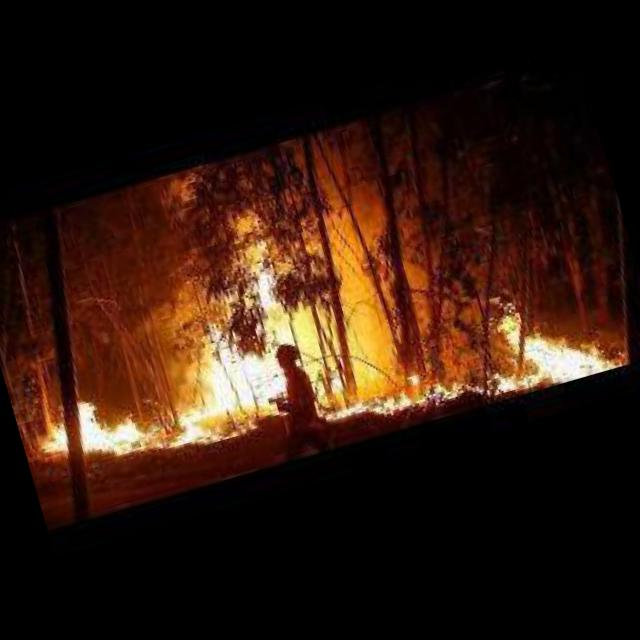fire: (0, 182, 375, 478), (392, 271, 622, 421)
